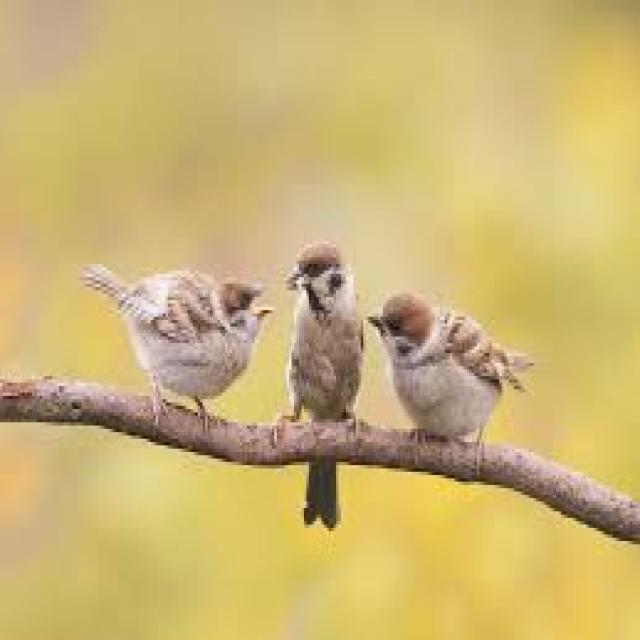bird: (84, 245, 279, 430), (368, 287, 539, 446), (266, 246, 380, 428)
